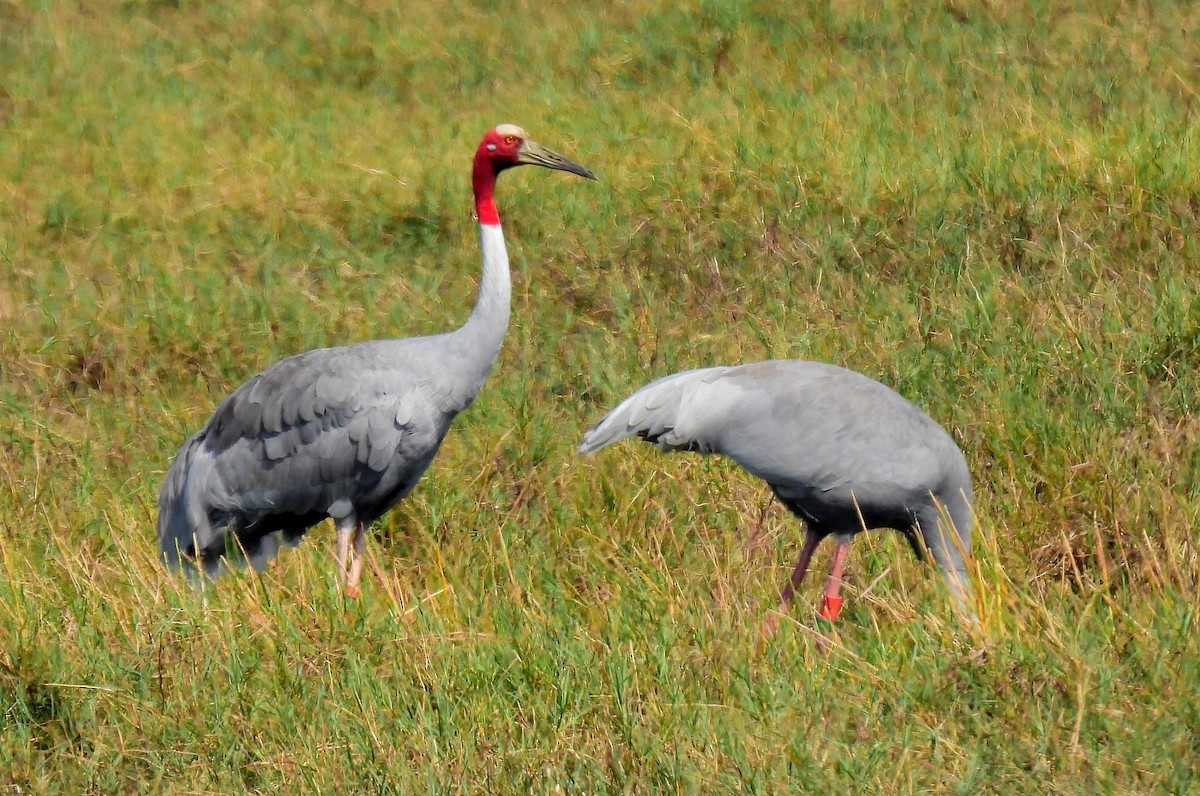crane: (171, 121, 599, 623)
